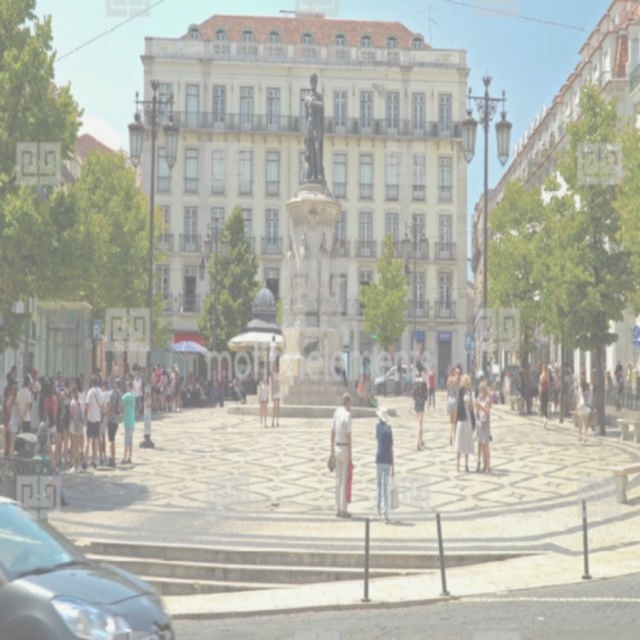pessoa: (282, 65, 342, 309), (586, 356, 634, 432), (372, 402, 400, 524), (180, 368, 254, 408), (331, 391, 352, 518), (452, 372, 477, 472), (80, 373, 103, 470), (408, 364, 430, 452), (546, 356, 576, 418), (43, 376, 62, 470), (105, 372, 123, 468), (474, 380, 492, 476), (118, 378, 136, 464), (68, 381, 84, 473), (5, 382, 21, 467), (17, 373, 32, 458), (90, 376, 104, 466), (60, 374, 73, 469), (73, 376, 87, 464), (36, 411, 56, 471), (446, 362, 460, 447), (574, 374, 590, 444), (98, 378, 111, 459), (1, 381, 12, 466), (28, 380, 44, 434), (524, 360, 540, 414), (54, 370, 66, 441), (487, 352, 503, 404), (538, 362, 550, 430), (270, 364, 282, 428), (130, 369, 142, 422), (405, 354, 419, 399), (164, 363, 177, 411), (333, 351, 349, 389), (258, 369, 268, 428), (2, 371, 12, 428), (138, 363, 148, 418), (517, 363, 527, 417), (38, 380, 52, 418), (150, 364, 160, 416), (356, 371, 369, 408), (426, 362, 436, 410), (172, 366, 182, 412), (363, 372, 375, 409), (395, 354, 404, 398), (155, 363, 163, 412), (502, 368, 512, 406), (454, 358, 464, 394), (160, 368, 168, 412), (269, 333, 277, 377), (22, 350, 36, 373), (78, 371, 88, 401), (120, 368, 130, 397), (124, 361, 138, 381), (9, 363, 19, 390), (469, 356, 476, 386), (476, 368, 486, 386), (444, 359, 450, 388), (510, 369, 516, 398), (26, 372, 35, 390), (30, 366, 40, 382), (438, 372, 446, 390), (66, 433, 72, 457), (379, 360, 389, 374), (96, 366, 102, 388), (580, 359, 586, 380), (0, 393, 3, 429), (539, 356, 545, 374), (151, 396, 156, 414), (39, 373, 50, 381), (418, 356, 423, 366), (150, 362, 153, 378), (162, 362, 165, 370)
